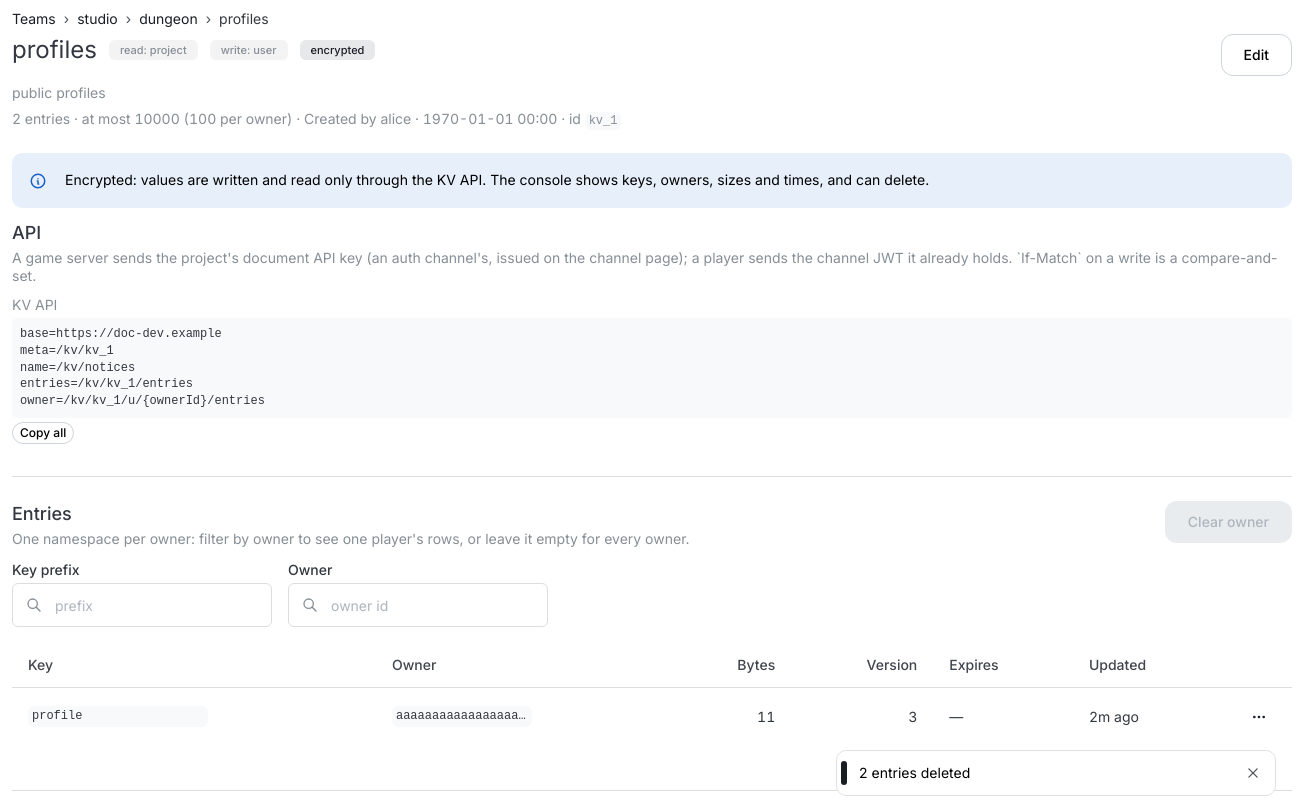
Test: KvCollectionPage › keeps values and writes out of an encrypted collection but still deletes
Expected: the heading "profiles" is shown, [12,34,97,66]
Expected: the text "encrypted" is shown, [310,41,364,59]
Click the 6th button at [1259, 717], box [1242,700,1276,734]
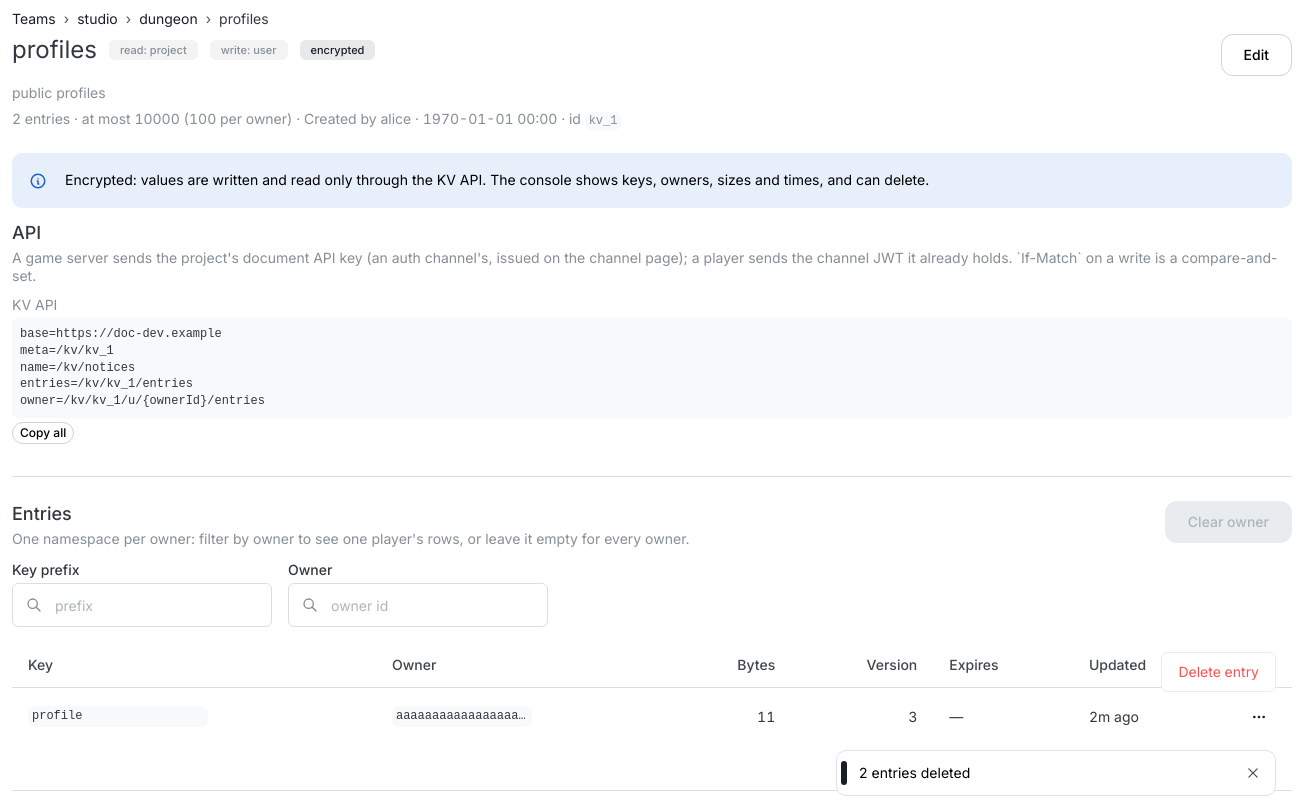
Expected: the menu item "Delete entry" is shown, [1166,657,1271,687]
